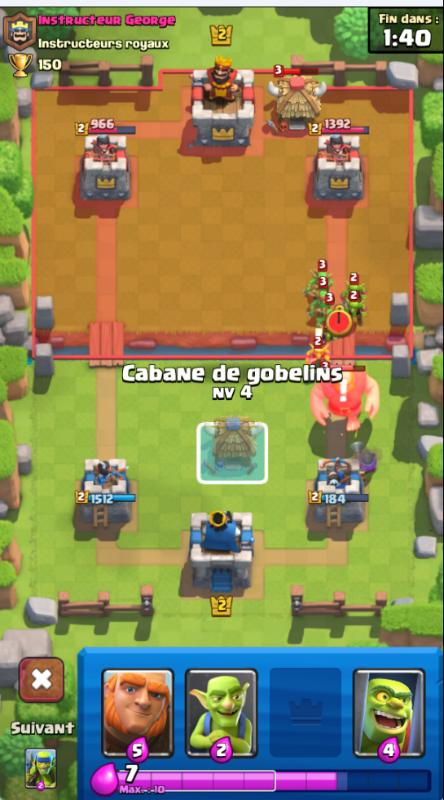geant: (311, 364, 376, 435)
gobelin: (306, 340, 330, 376), (340, 297, 366, 327), (342, 274, 366, 305)
gobelin_lances: (311, 265, 334, 293), (309, 288, 329, 318)
mousquetaire: (344, 437, 380, 485)
